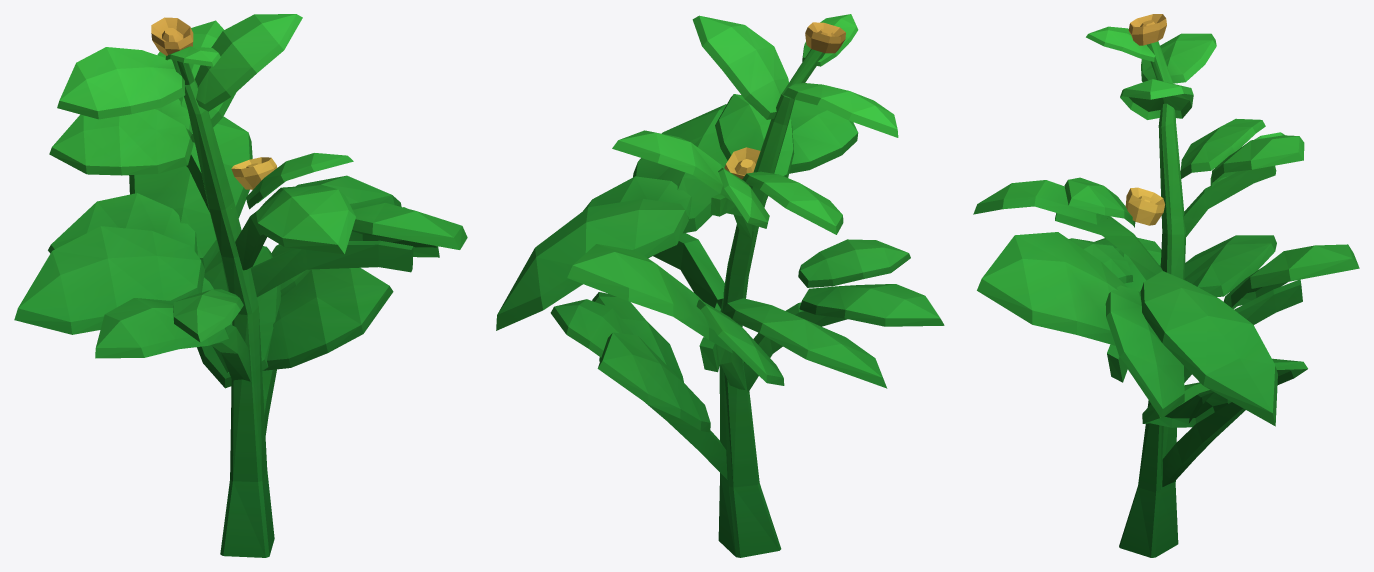
The model's file is crop_potato_stage2.glb.
3 views of the same model, side by side, from view 1: azimuth 30°, elevation 25°; view 2: azimuth 150°, elevation 25°; view 3: azimuth 270°, elevation 25° (orthographic). The views are drawn at different scales.
Parts seen in each view (by area): view 1: crop_potato_stage2; view 2: crop_potato_stage2; view 3: crop_potato_stage2.
Boxes of the visible parts, x1,y1,x2,y2 form: crop_potato_stage2: [14, 14, 467, 557]; crop_potato_stage2: [496, 14, 944, 557]; crop_potato_stage2: [973, 14, 1359, 557].
Bounding box in the file's own units: 0.2536 × 0.34 × 0.241.
Materials: 1 (1 with a texture image).
